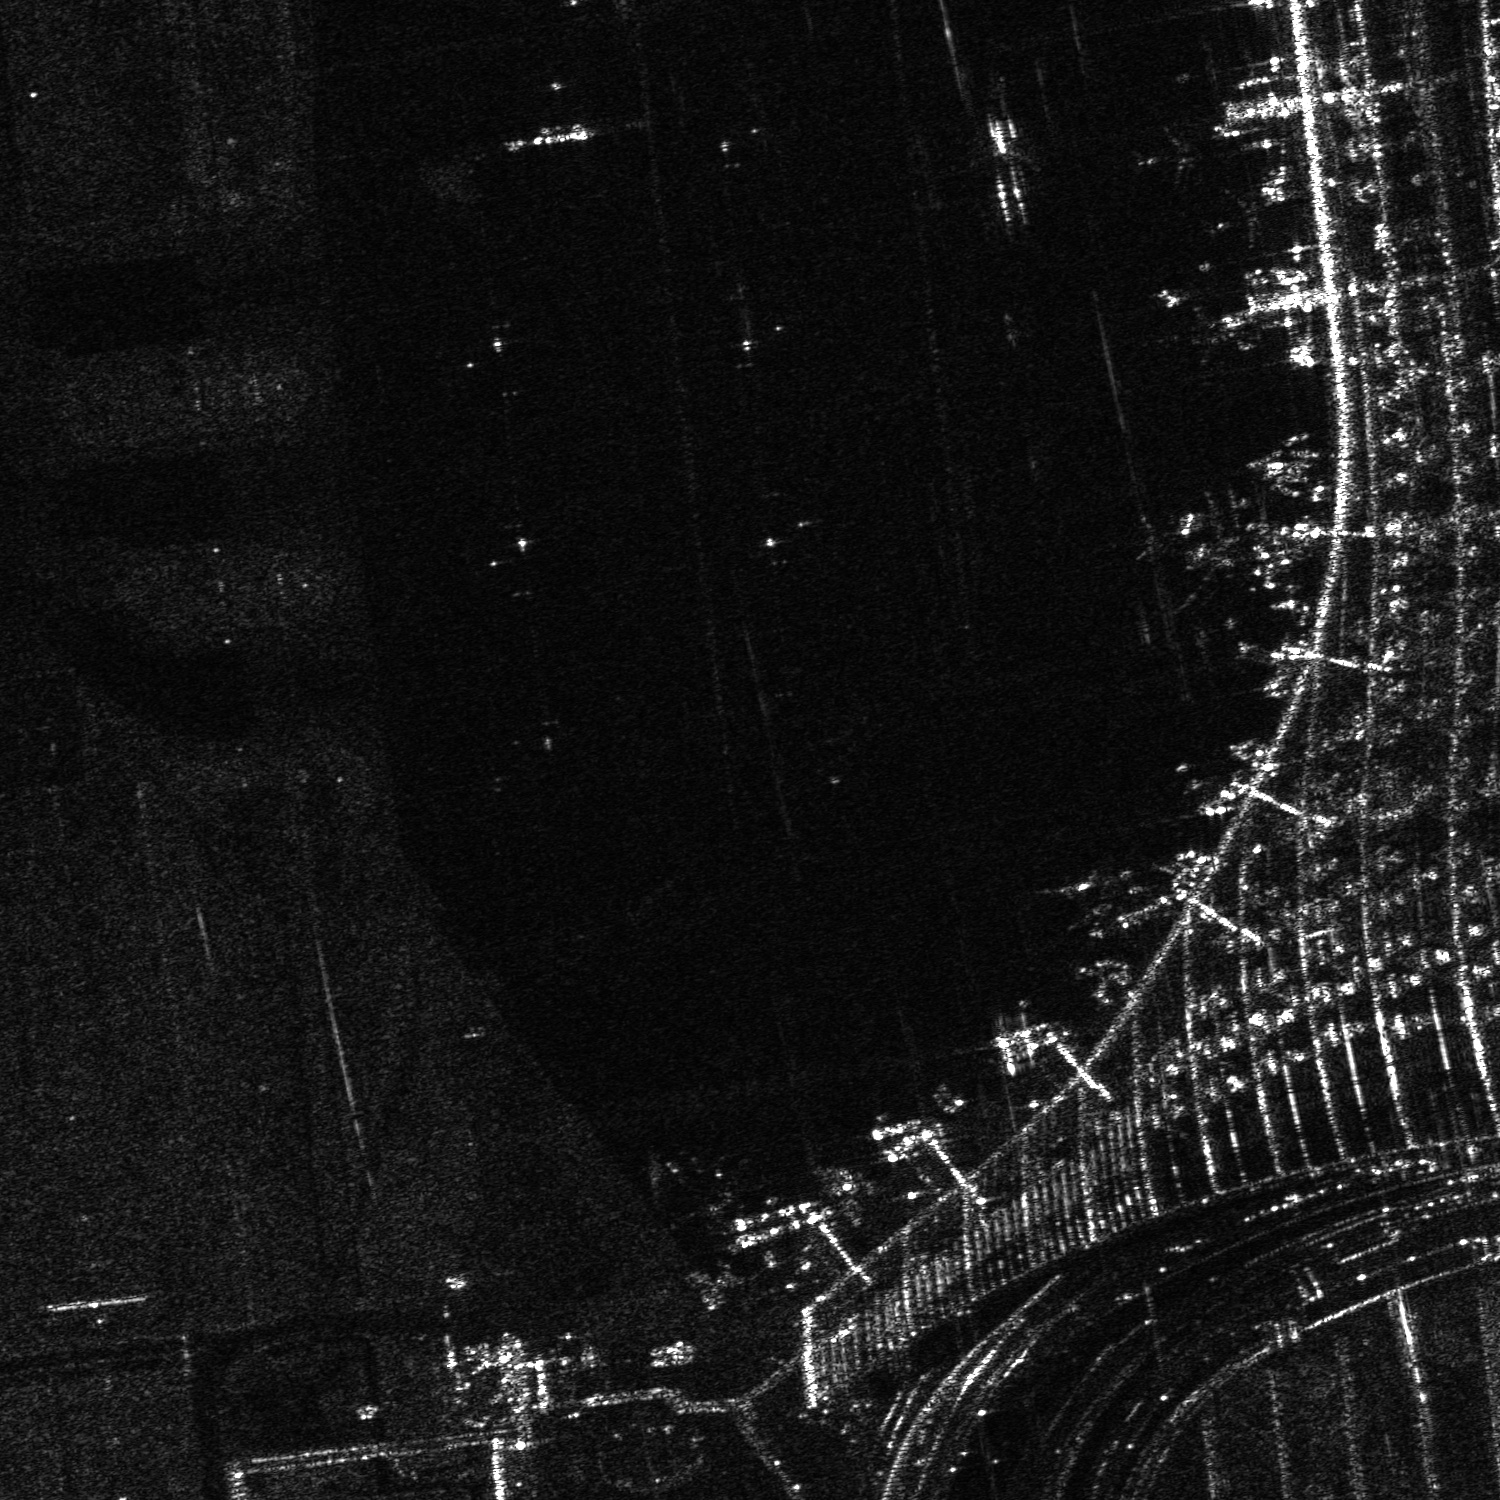A220: (1056, 865, 1109, 933)
Boeing787: (1132, 482, 1251, 614), (1129, 120, 1205, 194), (1207, 185, 1271, 249)
